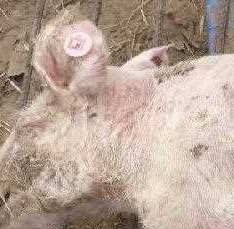text: (51, 19, 102, 69)
